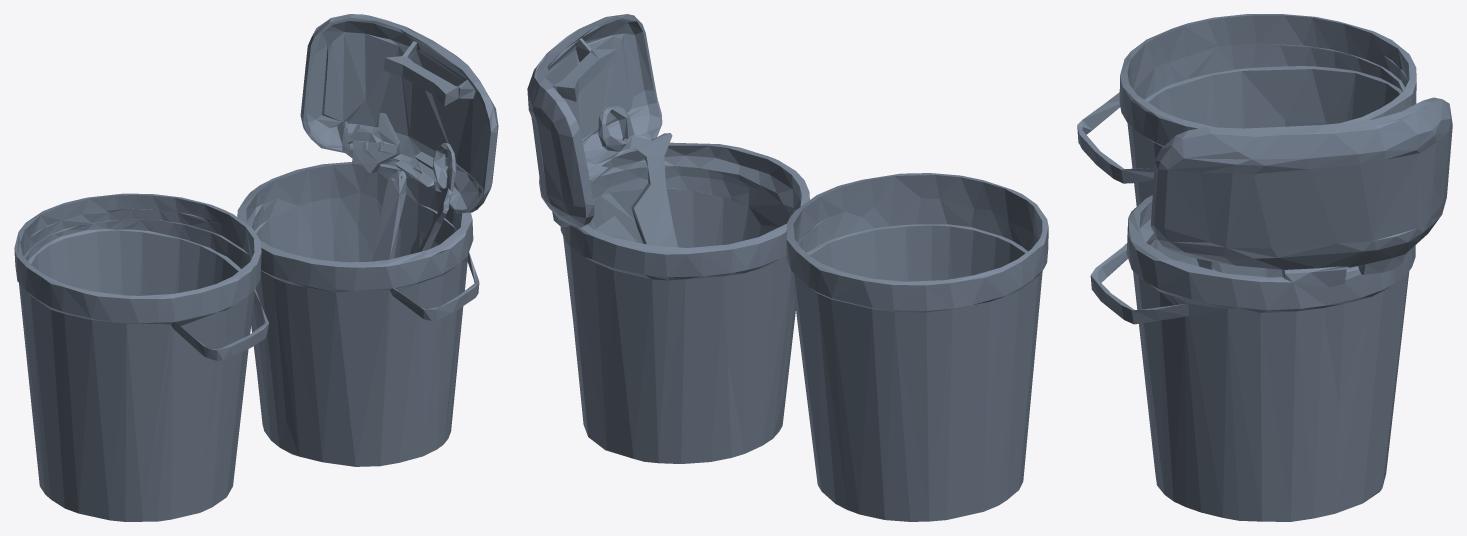
The model's file is lixeira.glb.
The picture shows the model from 3 angles, left to right: view 1: azimuth 30°, elevation 25°; view 2: azimuth 150°, elevation 25°; view 3: azimuth 270°, elevation 25°; orthographic projection. The views are drawn at different scales.
Parts seen in each view (by area): view 1: mesh_node; view 2: mesh_node; view 3: mesh_node.
Boxes of the visible parts, <box> form: mesh_node: <box>14,14,498,521</box>; mesh_node: <box>527,14,1048,521</box>; mesh_node: <box>1077,14,1452,521</box>.
Bounding box in the file's own units: 0.818 × 0.6201 × 0.5163.
